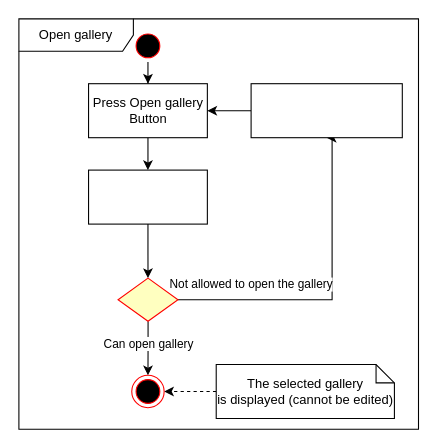
The diagram is 437 pixels wide and 448 high, and some of its shapes have lost their labels. The shapes that lost their labels are listed below. From the top down, each one's box as (x1, y1, x2, y2) in pixels, then its label:
(250, 83, 402, 138): Show error message
(87, 169, 207, 224): Validate token/user
